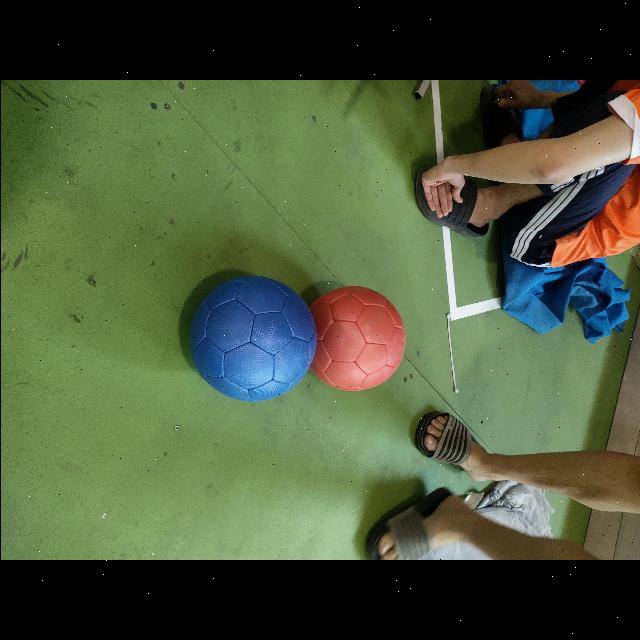B: (189, 275, 316, 402)
R: (309, 286, 404, 391)
